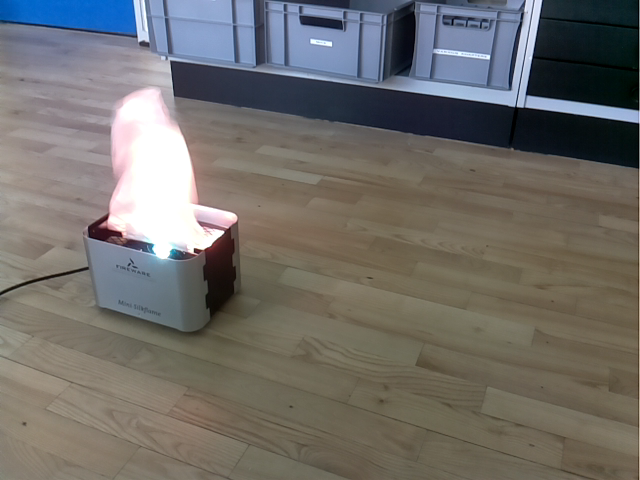fire: (107, 87, 211, 256)
